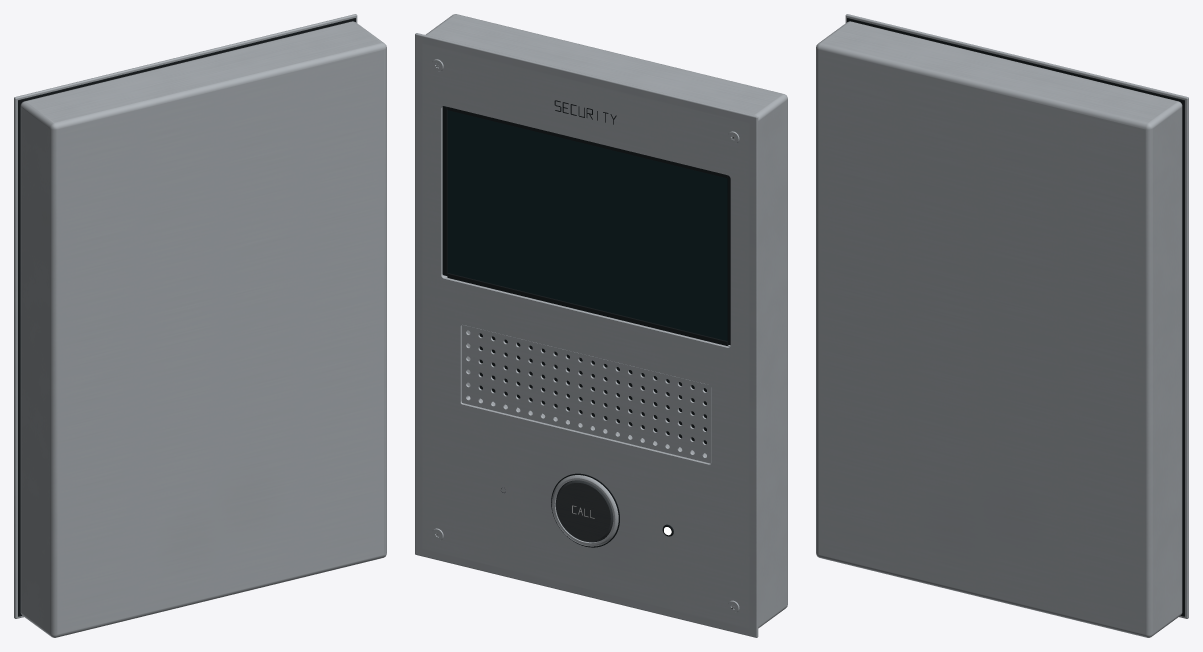
The model's file is intercom_panel.glb.
3 views of the same model, side by side, from view 1: azimuth 30°, elevation 25°; view 2: azimuth 150°, elevation 25°; view 3: azimuth 330°, elevation 25° (orthographic).
Parts seen in each view (by area): view 1: body; view 2: body, screen, btn_call; view 3: body.
Boxes of the visible parts, x1,y1,x2,y2 form: body: [14, 14, 386, 637]; body: [415, 14, 787, 637]; screen: [447, 110, 727, 340]; btn_call: [555, 480, 613, 542]; body: [816, 14, 1188, 637].
Size of the model in its own units: 0.22 by 0.32 by 0.0426.
Materials: 5 (2 with a texture image).
